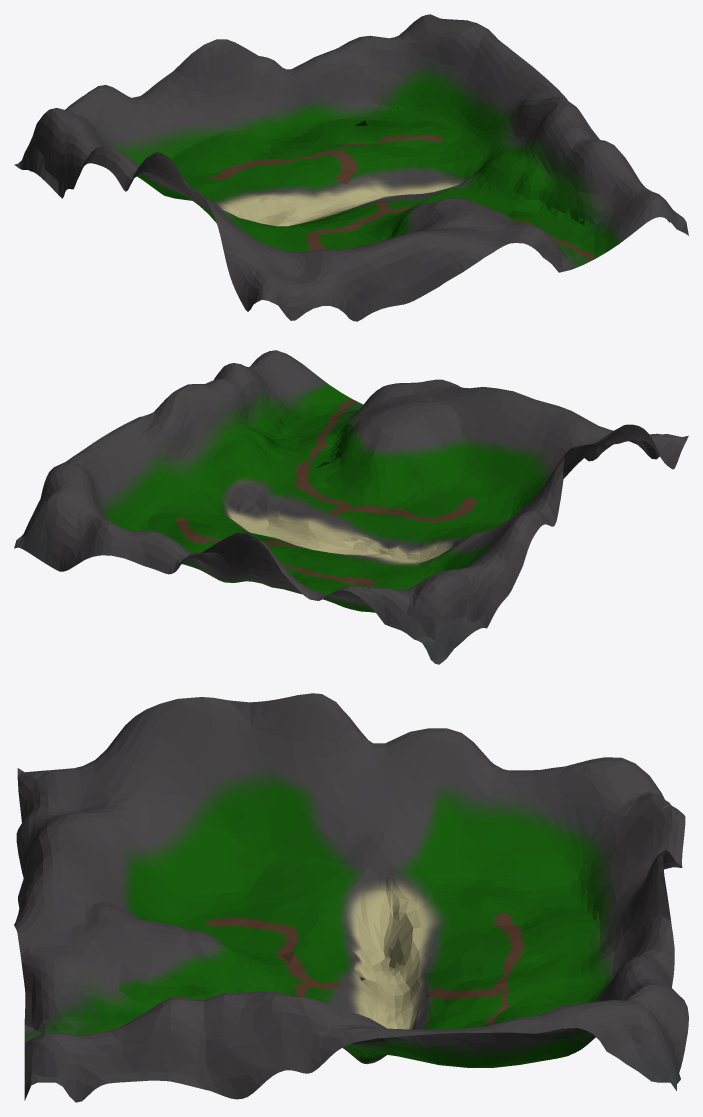
File: TheMap.fbx
3 views of the same model, one above another, from view 1: azimuth 30°, elevation 25°; view 2: azimuth 150°, elevation 25°; view 3: azimuth 270°, elevation 25° (orthographic). The views are drawn at different scales.
Parts seen in each view (by area): view 1: Plane; view 2: Plane; view 3: Plane.
Boxes of the visible parts, x1,y1,x2,y2 form: Plane: (14,14,688,321); Plane: (14,350,688,664); Plane: (14,693,688,1102).
Bounding box in the file's own units: 1032 × 303 × 1035.
Materials: 1 (1 with a texture image).
